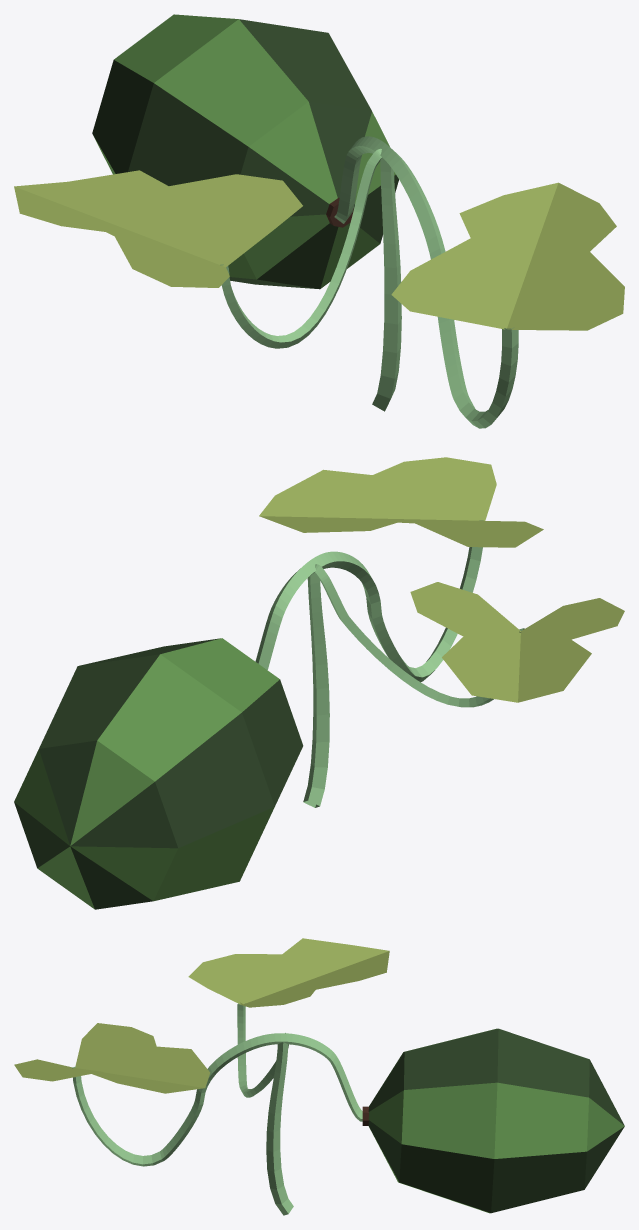
Rendered from Watermeloen.fbx.
The picture shows the model from 3 angles, top to bottom: view 1: azimuth 30°, elevation 25°; view 2: azimuth 150°, elevation 25°; view 3: azimuth 270°, elevation 25°; orthographic projection. The views are drawn at different scales.
Visible parts, largest first — view 1: Sphere, Circle, Circle.001, BezierCurve, BezierCurve.001, BezierCurve.002; view 2: Sphere, Circle, Circle.001, BezierCurve, BezierCurve.001, BezierCurve.002; view 3: Sphere, Circle.001, Circle, BezierCurve, BezierCurve.001, BezierCurve.002.
Part boxes in pixels (x1=…): Sphere: x1=92, y1=14, x2=398, y2=289; Circle: x1=391, y1=182, x2=624, y2=330; Circle.001: x1=14, y1=170, x2=302, y2=287; BezierCurve: x1=334, y1=136, x2=518, y2=428; BezierCurve.001: x1=372, y1=157, x2=401, y2=411; BezierCurve.002: x1=220, y1=148, x2=381, y2=348; Sphere: x1=14, y1=638, x2=303, y2=909; Circle: x1=259, y1=457, x2=543, y2=547; Circle.001: x1=410, y1=582, x2=624, y2=702; BezierCurve: x1=255, y1=520, x2=483, y2=682; BezierCurve.001: x1=303, y1=572, x2=329, y2=807; BezierCurve.002: x1=314, y1=564, x2=524, y2=707; Sphere: x1=368, y1=1028, x2=624, y2=1213; Circle.001: x1=188, y1=938, x2=389, y2=1007; Circle: x1=14, y1=1023, x2=210, y2=1093; BezierCurve: x1=72, y1=1033, x2=362, y2=1166; BezierCurve.001: x1=266, y1=1042, x2=293, y2=1215; BezierCurve.002: x1=237, y1=1003, x2=288, y2=1097.
Size of the model in its own units: 40.87 by 23.76 by 69.09.
